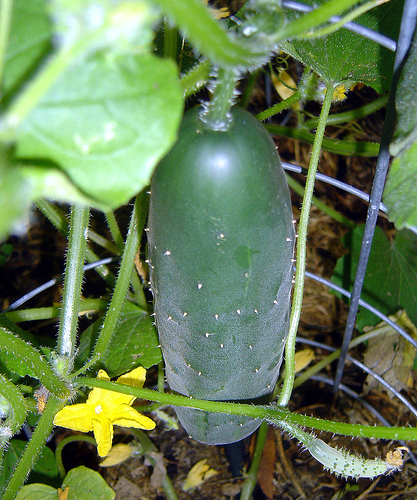cucumber: (144, 100, 295, 447)
